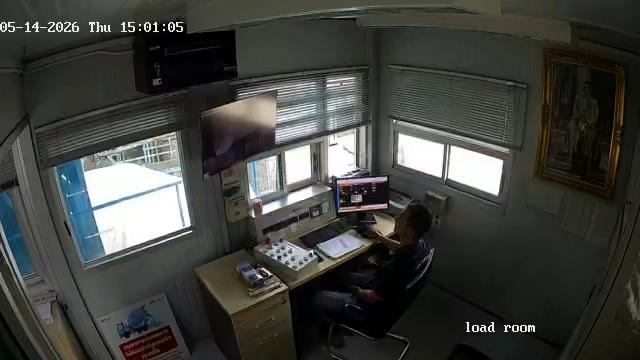Head: (386, 200, 432, 240)
People: (303, 199, 431, 310)
